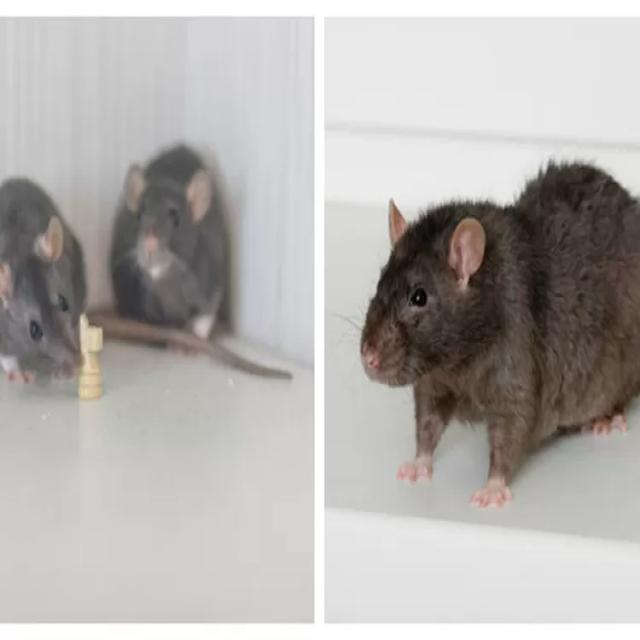rat: (346, 165, 640, 520), (98, 136, 235, 338), (2, 167, 92, 394)
